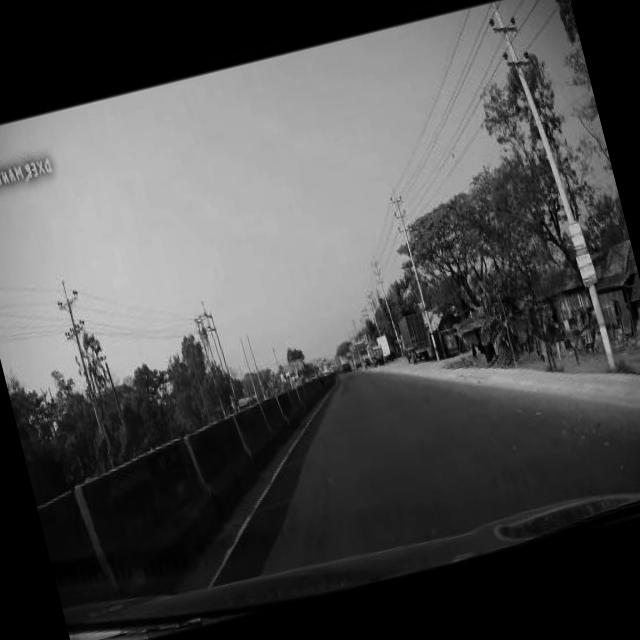bus: (339, 352, 352, 369)
truck: (396, 308, 434, 360), (334, 352, 342, 368)
